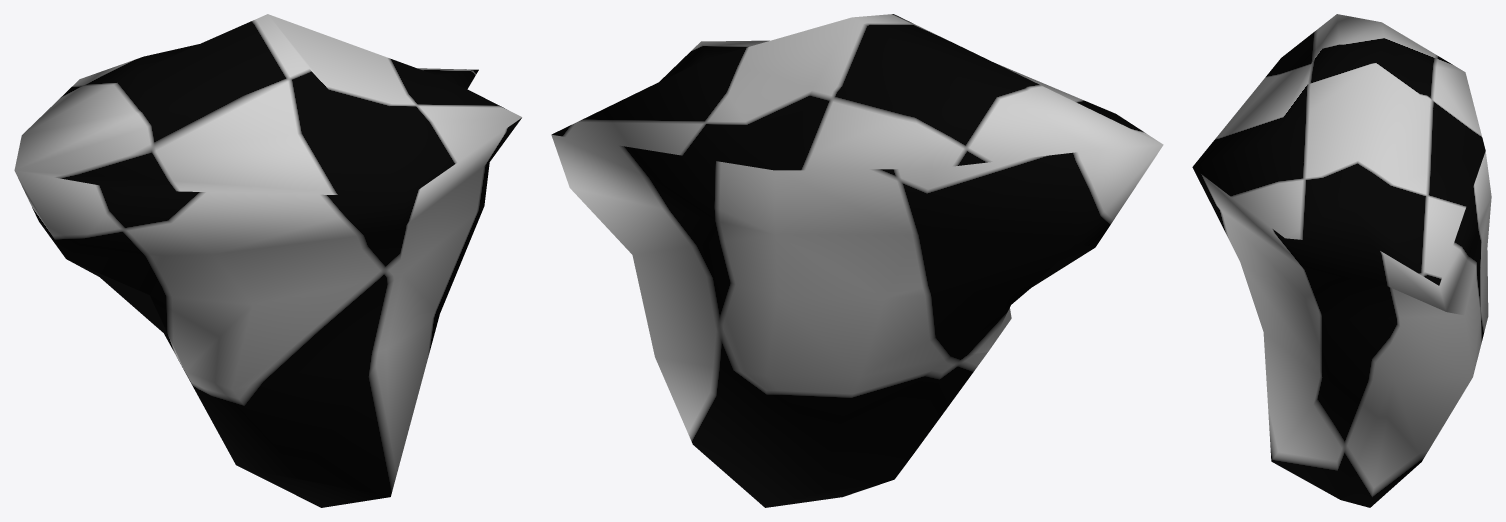
The model's file is iceBergAssetLarge.obj.
3 views of the same model, side by side, from view 1: azimuth 30°, elevation 25°; view 2: azimuth 150°, elevation 25°; view 3: azimuth 270°, elevation 25° (orthographic). The views are drawn at different scales.
Visible parts, largest first — view 1: ice_berg_1_lowpoly; view 2: ice_berg_1_lowpoly; view 3: ice_berg_1_lowpoly.
Part boxes in pixels (<box>): ice_berg_1_lowpoly: <box>14,14,522,507</box>; ice_berg_1_lowpoly: <box>551,14,1163,507</box>; ice_berg_1_lowpoly: <box>1192,14,1491,507</box>.
Size of the model in its own units: 146 by 132 by 87.58.
1 material, 1 textured.
